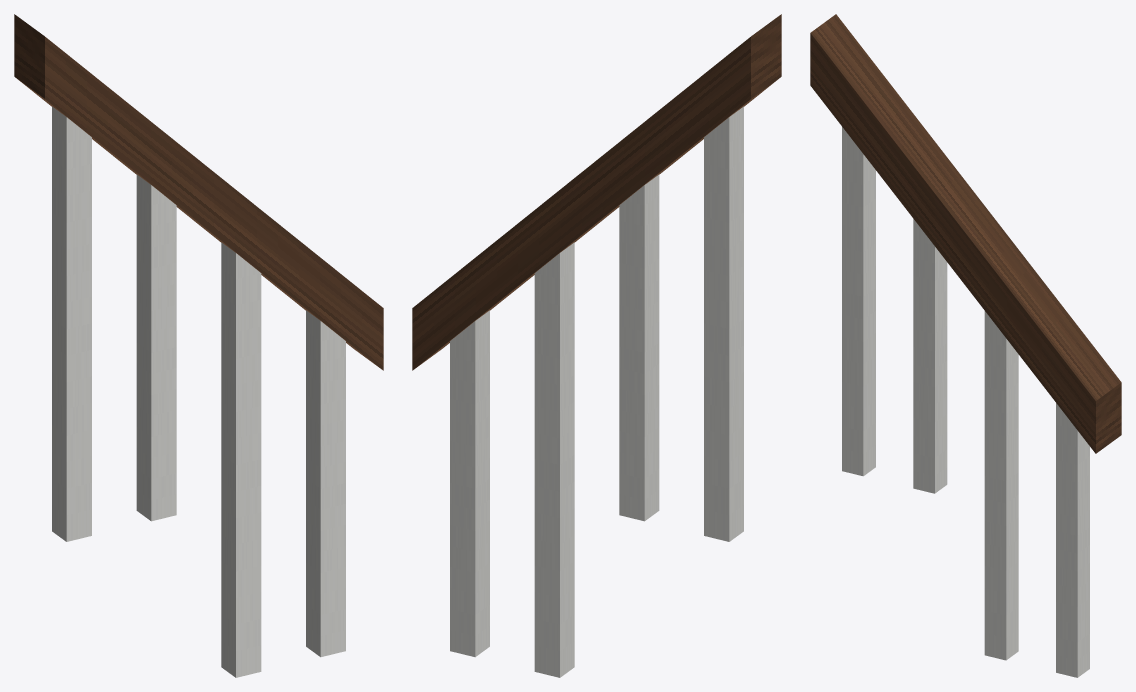
The model's file is mid_neg.obj.
3 renders of one model, left to right at view 1: azimuth 30°, elevation 25°; view 2: azimuth 150°, elevation 25°; view 3: azimuth 330°, elevation 25°, orthographic. The views are drawn at different scales.
Visible parts, largest first — view 1: railing_baluster_walnut_mid_neg; view 2: railing_baluster_walnut_mid_neg; view 3: railing_baluster_walnut_mid_neg.
Part boxes in pixels (box(x1,y1,x2,y2)): railing_baluster_walnut_mid_neg: box(14, 14, 383, 677); railing_baluster_walnut_mid_neg: box(412, 14, 781, 677); railing_baluster_walnut_mid_neg: box(810, 14, 1121, 677).
Bounding box in the file's own units: 1 × 1.96 × 0.1562.
